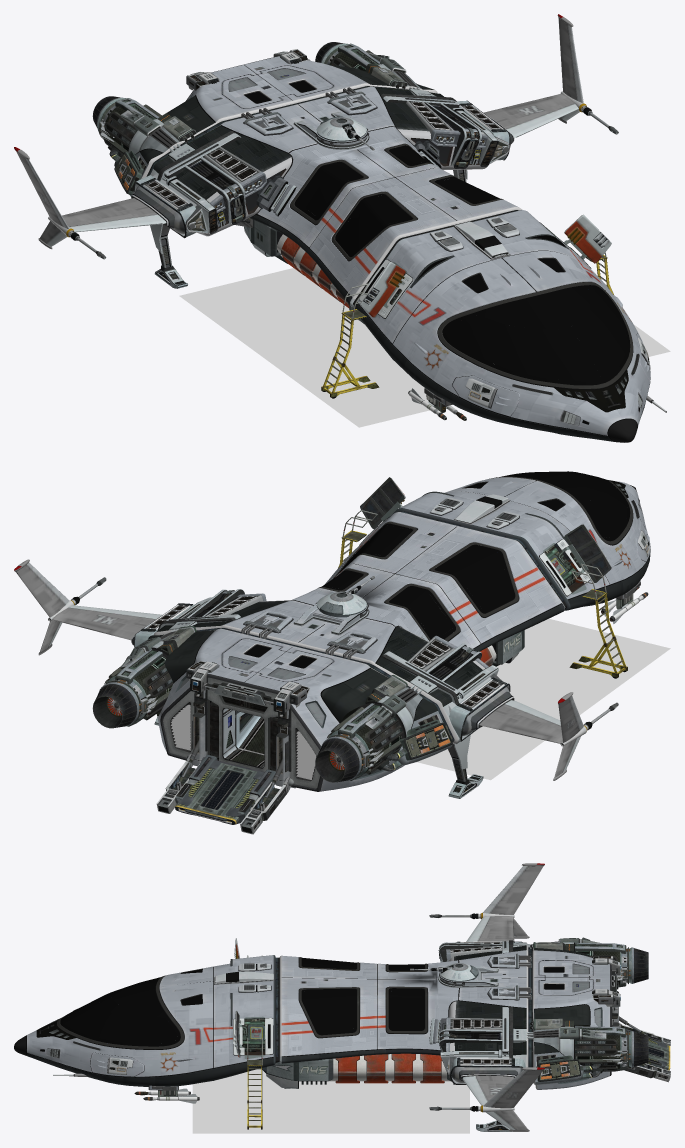
3 renders of one model, top to bottom at view 1: azimuth 30°, elevation 25°; view 2: azimuth 150°, elevation 25°; view 3: azimuth 270°, elevation 25°, orthographic. The views are drawn at different scales.
Parts seen in each view (by area): view 1: Object_18, Object_33, Object_2, Object_8, Object_5, Object_34, Object_48, Object_41, Object_7, Object_28, Object_6, Object_19 (+4 smaller); view 2: Object_18, Object_48, Object_6, Object_2, Object_42, Object_41, Object_8, Object_28, Object_40, Object_33, Object_5, Object_34 (+7 smaller); view 3: Object_18, Object_2, Object_33, Object_8, Object_48, Object_6, Object_34, Object_41, Object_3, Object_5, Object_28, Object_7 (+5 smaller).
Boxes of the visible parts, x1,y1,x2,y2 form: Object_18: [150, 86, 522, 300]; Object_33: [392, 250, 650, 435]; Object_2: [179, 268, 670, 427]; Object_8: [244, 80, 627, 381]; Object_5: [157, 87, 498, 233]; Object_34: [353, 210, 666, 442]; Object_48: [14, 15, 618, 259]; Object_41: [134, 56, 437, 192]; Object_7: [294, 145, 630, 385]; Object_28: [359, 214, 611, 420]; Object_6: [92, 42, 407, 194]; Object_19: [134, 100, 510, 307]; Object_18: [153, 511, 563, 743]; Object_48: [14, 559, 618, 786]; Object_6: [92, 626, 452, 782]; Object_2: [416, 618, 670, 780]; Object_42: [148, 630, 452, 788]; Object_41: [152, 628, 454, 791]; Object_8: [245, 471, 627, 668]; Object_28: [359, 477, 648, 623]; Object_40: [156, 739, 293, 834]; Object_33: [444, 476, 650, 584]; Object_5: [157, 589, 498, 704]; Object_34: [375, 485, 650, 610]; Object_18: [275, 942, 531, 1067]; Object_2: [192, 1069, 469, 1133]; Object_33: [27, 966, 213, 1076]; Object_8: [63, 958, 563, 1043]; Object_48: [429, 863, 620, 1131]; Object_6: [530, 937, 648, 1081]; Object_34: [14, 955, 275, 1090]; Object_41: [528, 947, 611, 1089]; Object_3: [262, 1053, 454, 1088]; Object_5: [429, 940, 533, 1073]; Object_28: [90, 938, 273, 1103]; Object_7: [60, 957, 424, 1046].
Size of the model in its own units: 11.25 by 2.79 by 15.16.
Materials: 46 (42 with a texture image).
